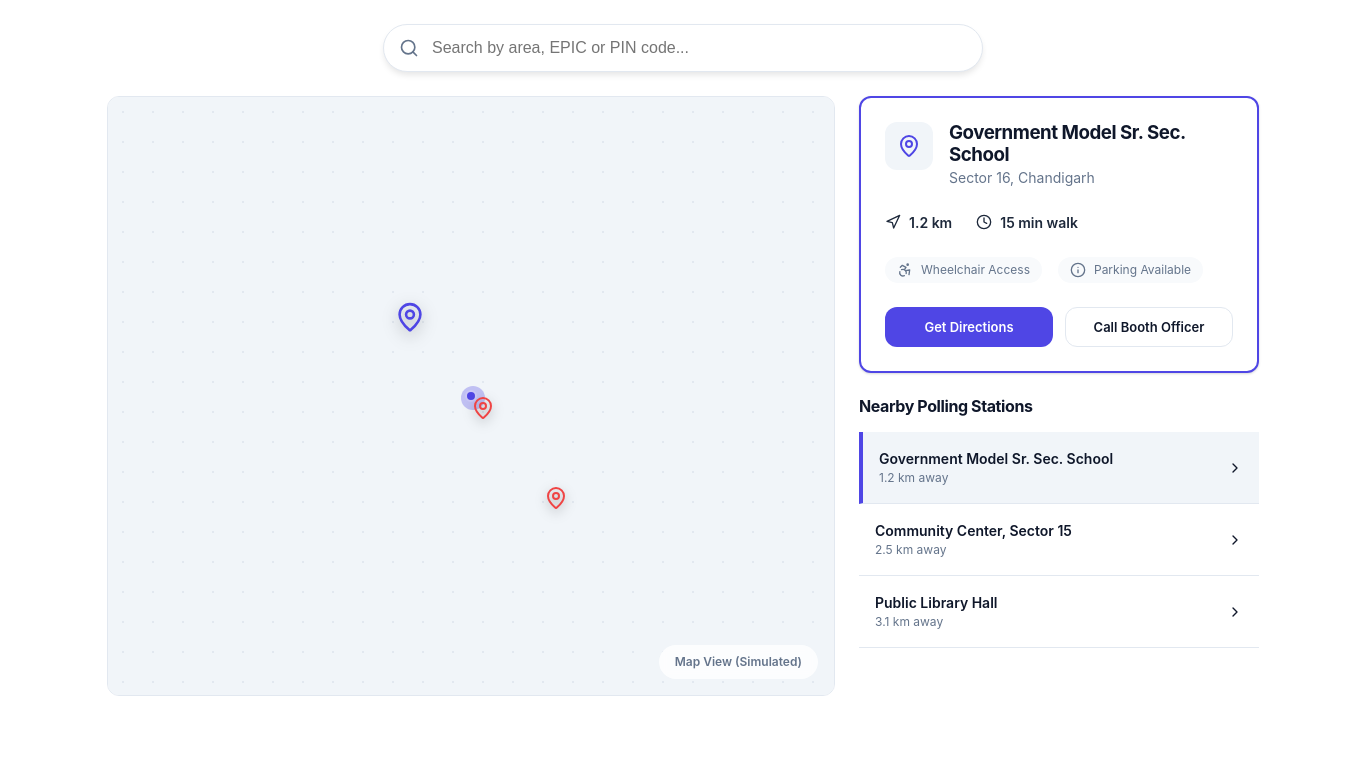
Test: BoothLocator Component › clears error when user starts typing again
# Trigger error
Type "11A001" into the field with placeholder "Search by area, EPIC or PIN code...". click: (683, 48)
box: top-left (383, 24), bottom-right (983, 72)
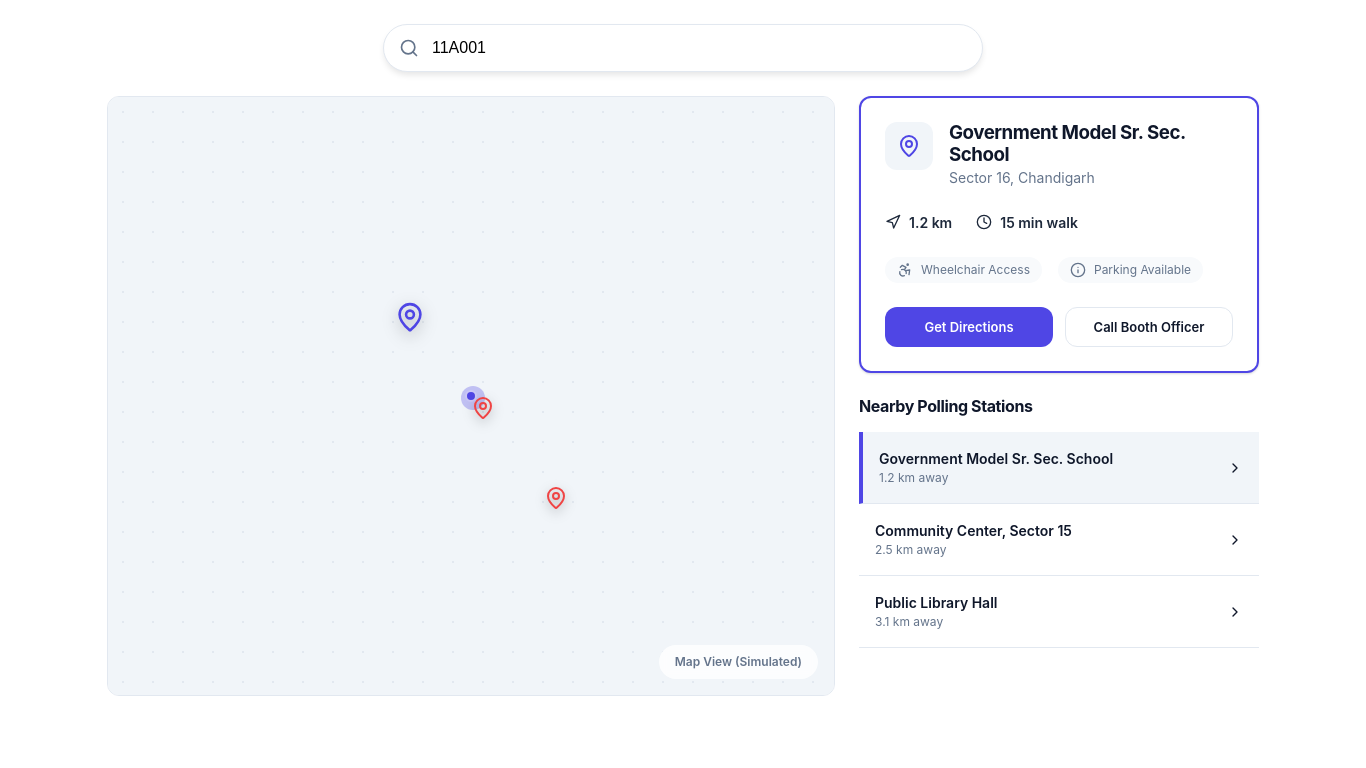
Press Enter in the field with placeholder "Search by area, EPIC or PIN code...", box top-left (383, 24), bottom-right (983, 72)
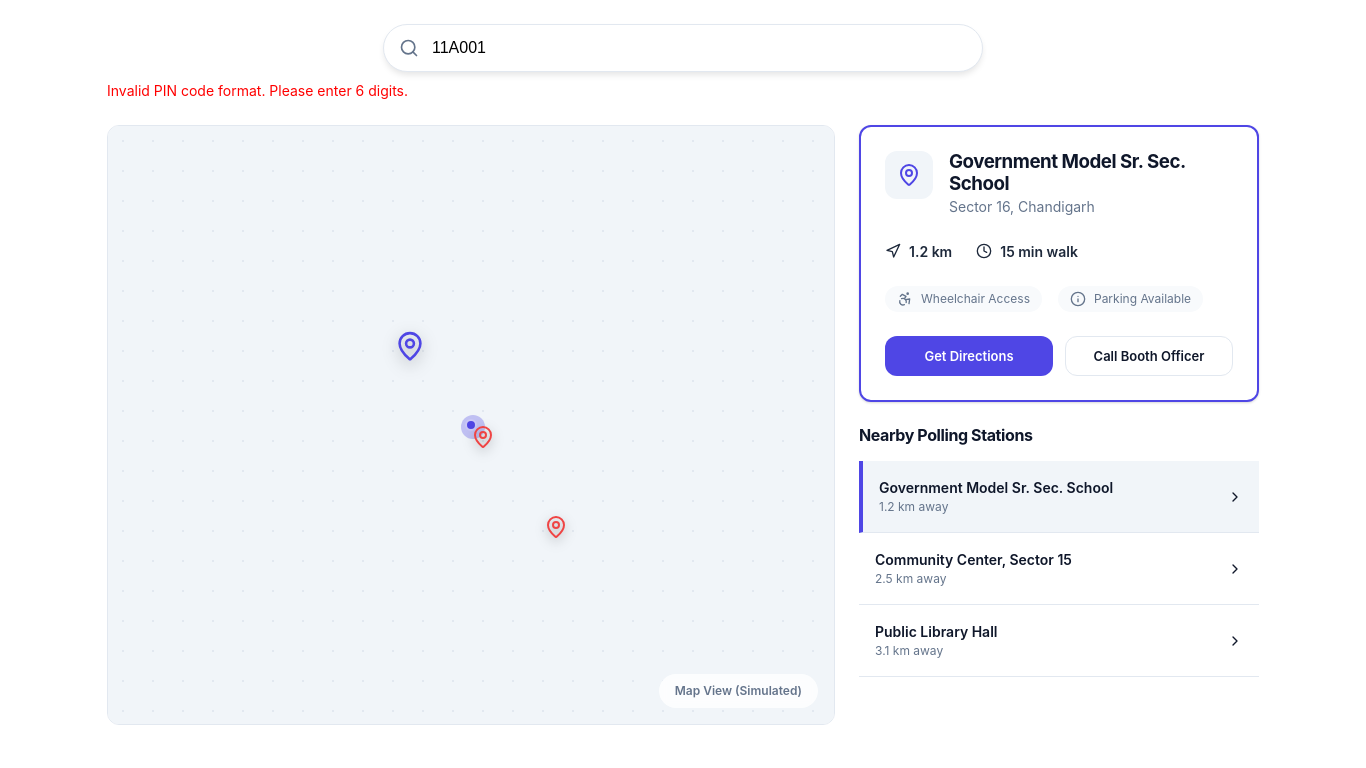
Result: the text "Invalid PIN code format. Please enter 6 digits." is shown at top-left (107, 82), bottom-right (408, 99)
# Type again
Replace the text in the field with placeholder "Search by area, EPIC or PIN code..." with "11A0012". click: (683, 48)
box: top-left (383, 24), bottom-right (983, 72)
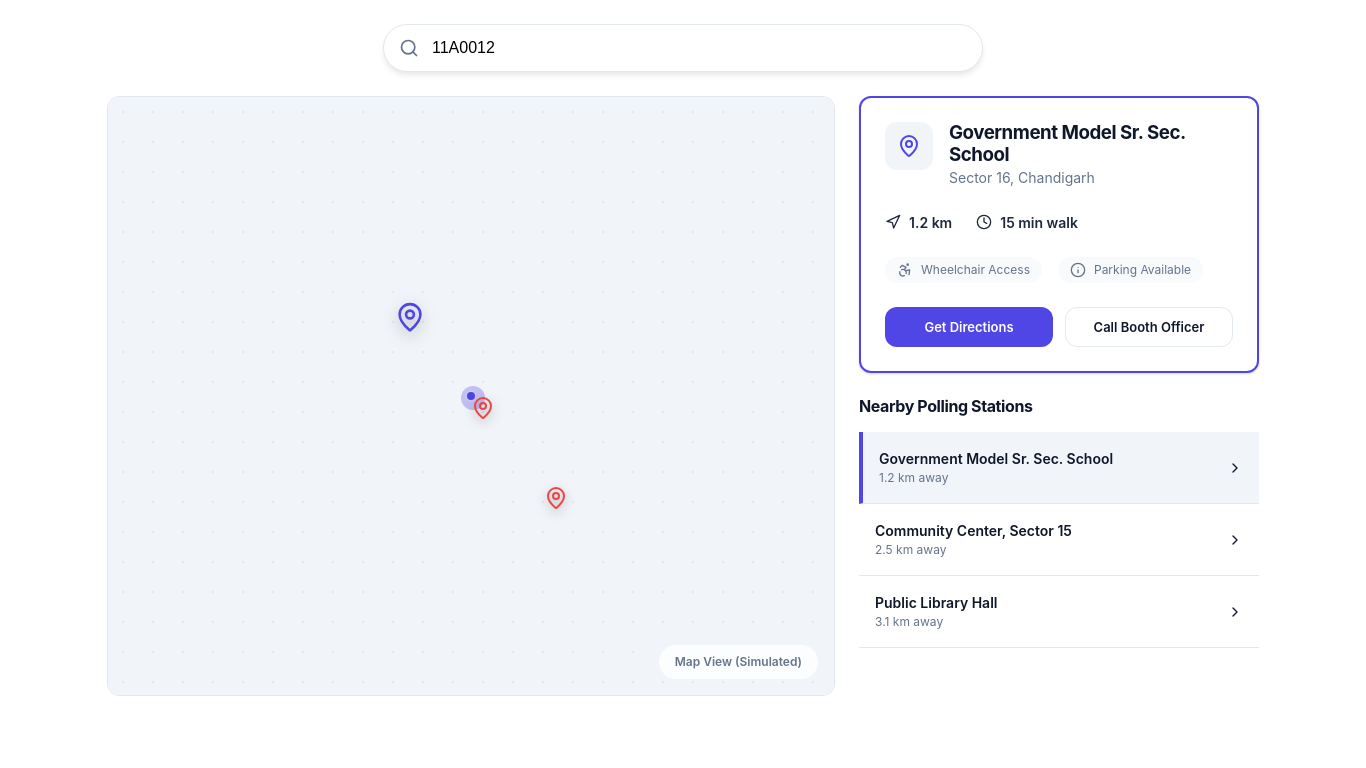
Result: the text "Invalid PIN code format. Please enter 6 digits." is gone
